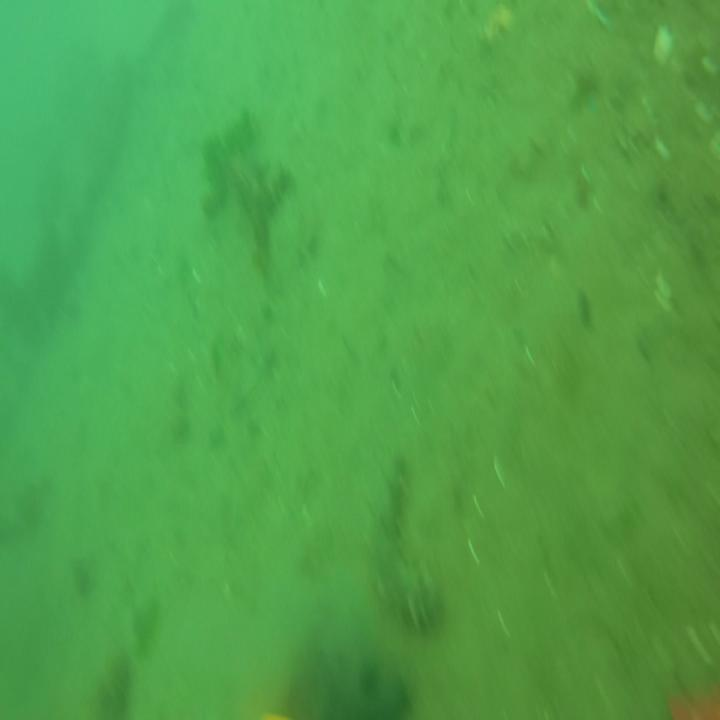holothurian: (370, 451, 444, 626)
